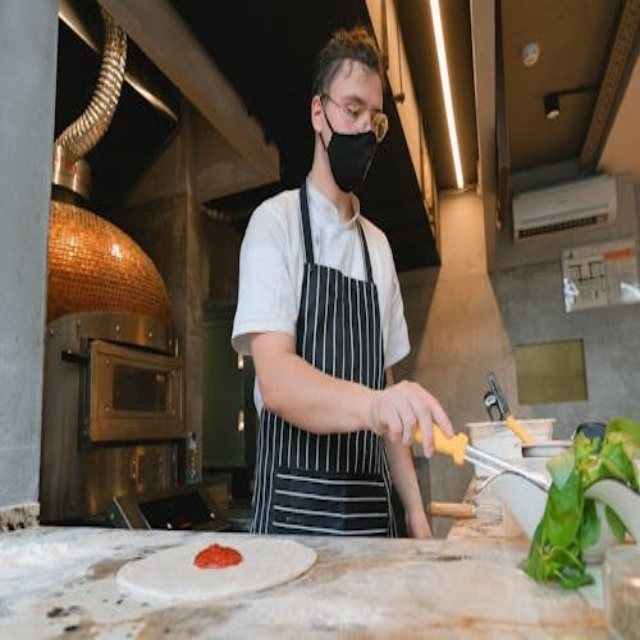Gafas: (323, 91, 389, 141)
Mascara: (321, 101, 381, 192)
Sin_guantes: (374, 380, 453, 455)
